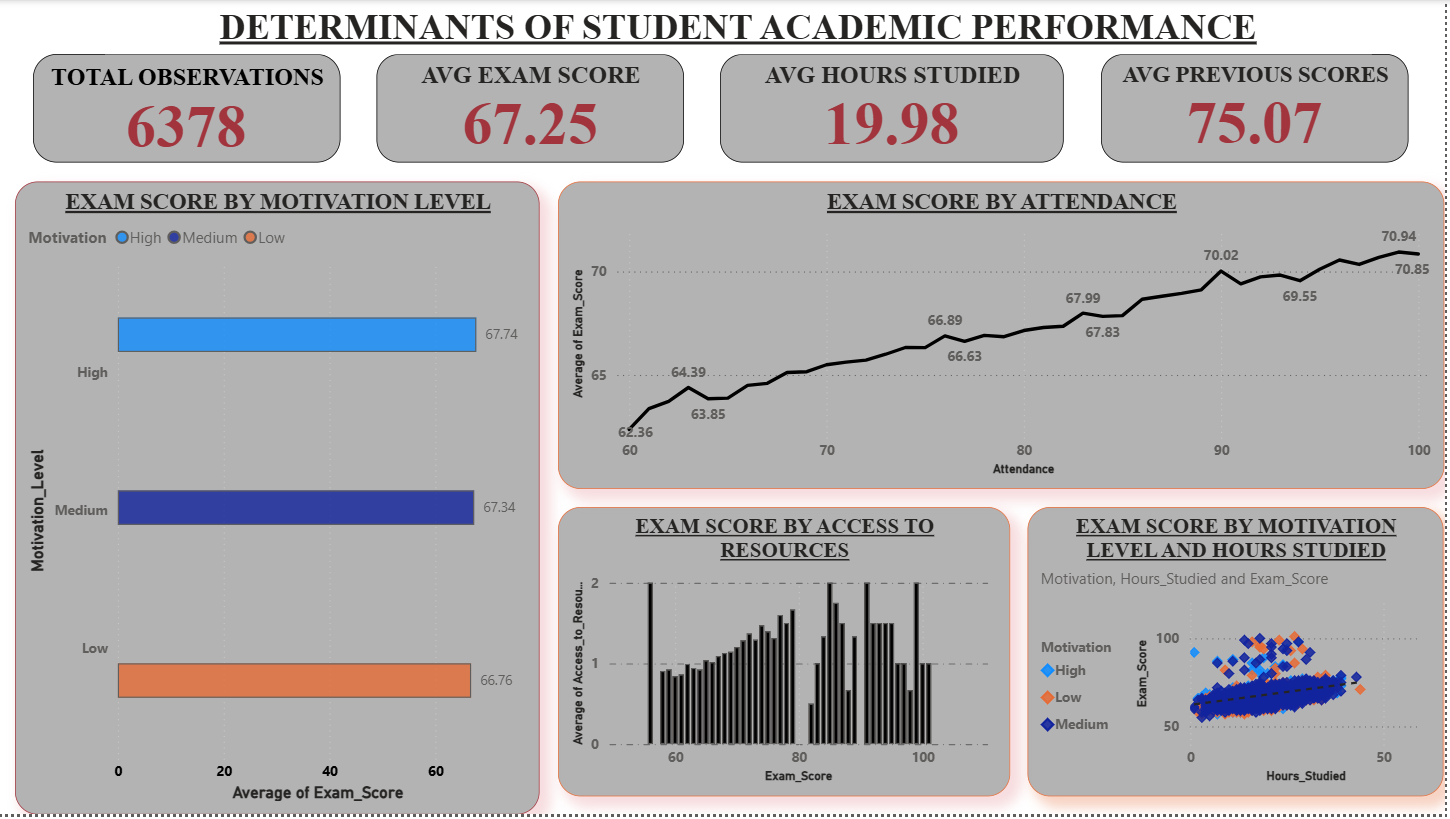

The page's visual inventory and layout, read from the dashboard file:
{"tool":"powerbi","page":{"name":"Page 1","canvas":[1280,720],"ordinal":0},"visuals":[{"type":"textbox","box":[10,570,280,150],"z":0},{"type":"card","title":"TOTAL OBSERVATIONS","fields":{"Values":["CountNonNull(student_data.Exam_Score)"]},"box":[32,48,272,96],"z":1000},{"type":"clusteredBarChart","title":"EXAM SCORE BY MOTIVATION LEVEL","fields":{"Category":["student_data.Motivation"],"Y":["Avg(student_data.Exam_Score)"],"Series":["student_data.Motivation"]},"box":[16,160,464,560],"z":2000},{"type":"columnChart","title":"EXAM SCORE BY ACCESS TO RESOURCES","fields":{"Y":["Avg(student_data.Access_to_Resources)"],"Category":["student_data.Exam_Score"]},"box":[496,448,400,256],"z":3000},{"type":"lineChart","title":"EXAM SCORE BY ATTENDANCE","fields":{"Category":["student_data.Attendance"],"Y":["Avg(student_data.Exam_Score)"]},"box":[496,160,784,272],"z":4000},{"type":"scatterChart","title":"EXAM SCORE BY MOTIVATION LEVEL AND HOURS STUDIED","fields":{"X":["student_data.Hours_Studied"],"Y":["student_data.Exam_Score"],"Series":["student_data.Motivation"]},"box":[912,448,368,256],"z":6000},{"type":"card","title":"AVG EXAM SCORE","fields":{"Values":["Avg(student_data.Exam_Score)"]},"box":[336,48,272,96],"z":7000},{"type":"card","title":"AVG HOURS STUDIED","fields":{"Values":["Avg(student_data.Hours_Studied)"]},"box":[640,48,304,96],"z":8000},{"type":"card","title":"AVG PREVIOUS SCORES","fields":{"Values":["Avg(student_data.Previous_Scores)"]},"box":[976,48,272,96],"z":9000},{"type":"textbox","box":[96,0,1120,48],"z":9001}]}

Visuals, with their boxes in screenshot pixels (x1, y1, x2, y2), scaled from the page's 1280x720 canvas onto the 1450x819 screenshot:
textbox: <box>11,648,329,818</box>
"TOTAL OBSERVATIONS" card: <box>36,55,344,164</box>
"EXAM SCORE BY MOTIVATION LEVEL" clusteredBarChart: <box>18,182,544,818</box>
"EXAM SCORE BY ACCESS TO RESOURCES" columnChart: <box>562,510,1015,801</box>
"EXAM SCORE BY ATTENDANCE" lineChart: <box>562,182,1449,491</box>
"EXAM SCORE BY MOTIVATION LEVEL AND HOURS STUDIED" scatterChart: <box>1033,510,1449,801</box>
"AVG EXAM SCORE" card: <box>381,55,689,164</box>
"AVG HOURS STUDIED" card: <box>725,55,1069,164</box>
"AVG PREVIOUS SCORES" card: <box>1106,55,1414,164</box>
textbox: <box>109,0,1378,55</box>
